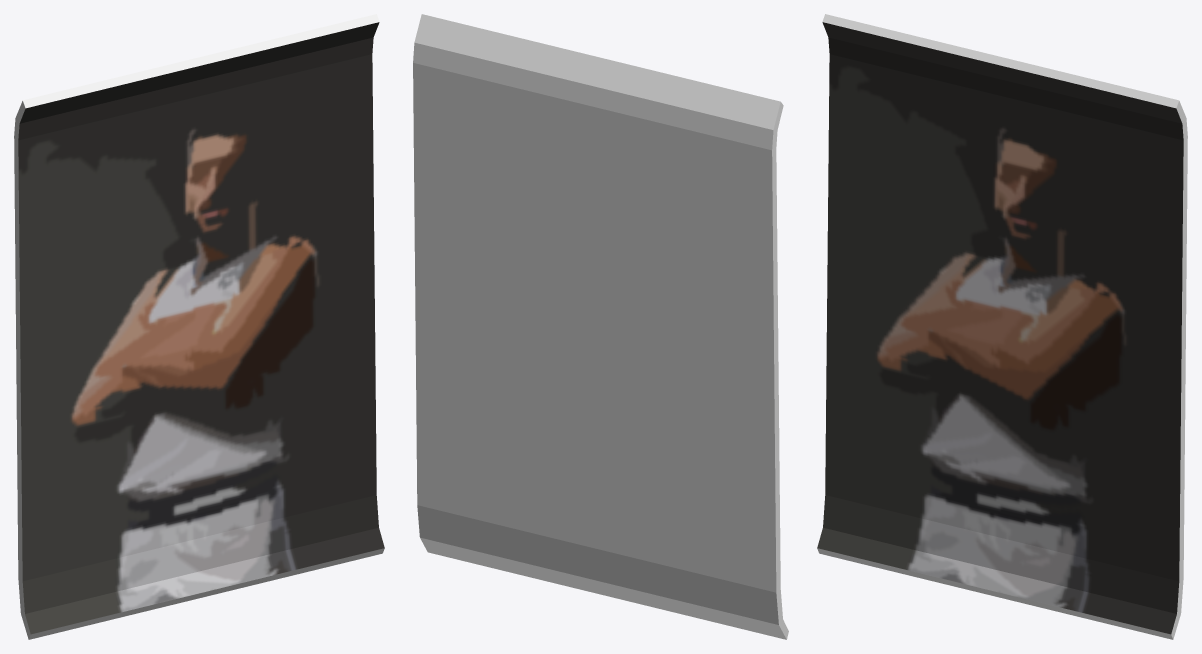
Rendered from poster_1.glb.
3 views of the same model, side by side, from view 1: azimuth 30°, elevation 25°; view 2: azimuth 150°, elevation 25°; view 3: azimuth 330°, elevation 25° (orthographic).
Parts seen in each view (by area): view 1: Poster 1; view 2: Poster 1; view 3: Poster 1.
Boxes of the visible parts, left/top/right/bottom form: Poster 1: left=14, top=14, right=384, bottom=639; Poster 1: left=413, top=14, right=788, bottom=639; Poster 1: left=817, top=14, right=1187, bottom=639.
Bounding box in the file's own units: 0.3807 × 0.5499 × 0.031.
2 materials, 2 textured.
